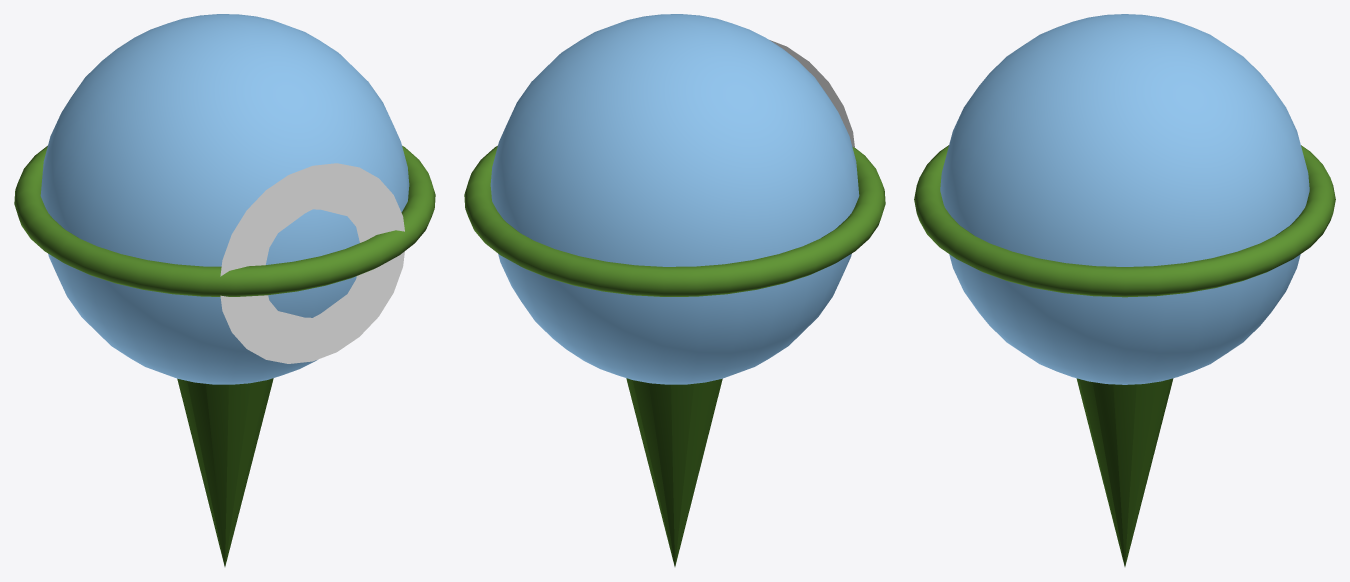
Rendered from cloud_with_rain.glb.
The picture shows the model from 3 angles, left to right: view 1: azimuth 30°, elevation 25°; view 2: azimuth 150°, elevation 25°; view 3: azimuth 270°, elevation 25°; orthographic projection.
Parts seen in each view (by area): view 1: hazardPin; view 2: hazardPin; view 3: hazardPin.
Part boxes in pixels (x1,y1,x2,y2): hazardPin: (14,14,435,566); hazardPin: (464,14,885,566); hazardPin: (914,14,1335,566).
Bounding box in the file's own units: 1.25 × 1.76 × 1.25.
